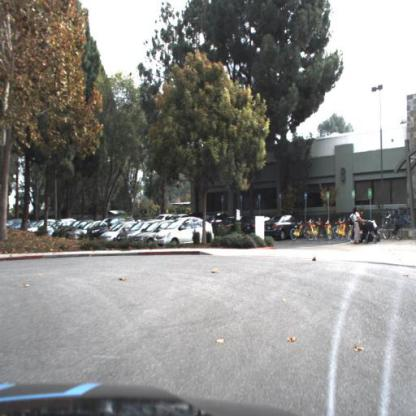car: (155, 215, 216, 250), (132, 219, 178, 250), (264, 213, 307, 242), (100, 221, 140, 247), (211, 209, 240, 235)
pedestrian: (353, 208, 365, 246)
